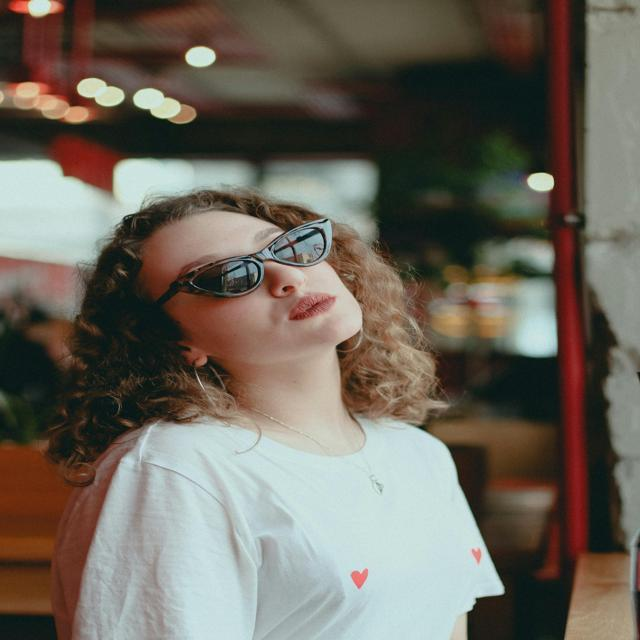2_gafas: (153, 214, 335, 307)
